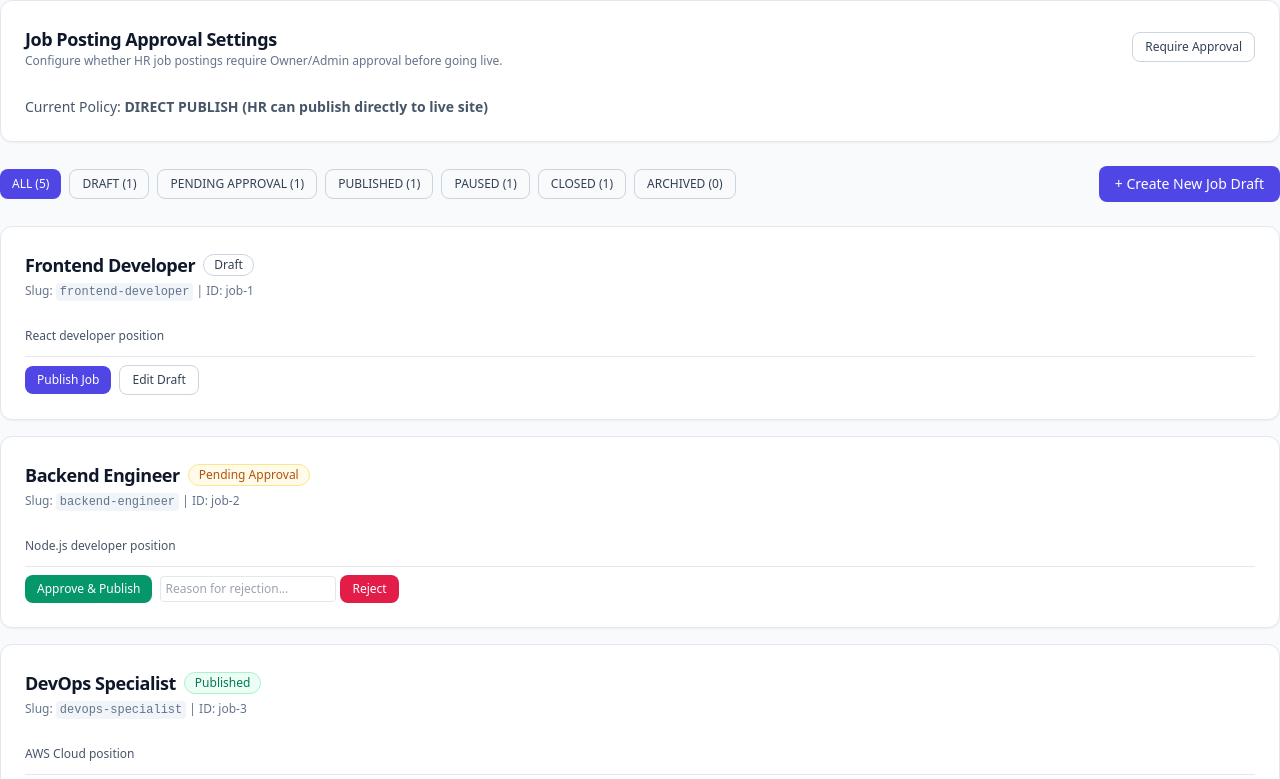
Test: JobPostingManager Component › 2. Owner/Admin can toggle job approval settings
This screenshot has width=1280, height=779.
Click the button with test id "toggle-approval-setting-btn" at (1194, 47), box x1=1132 y1=32 x2=1255 y2=62
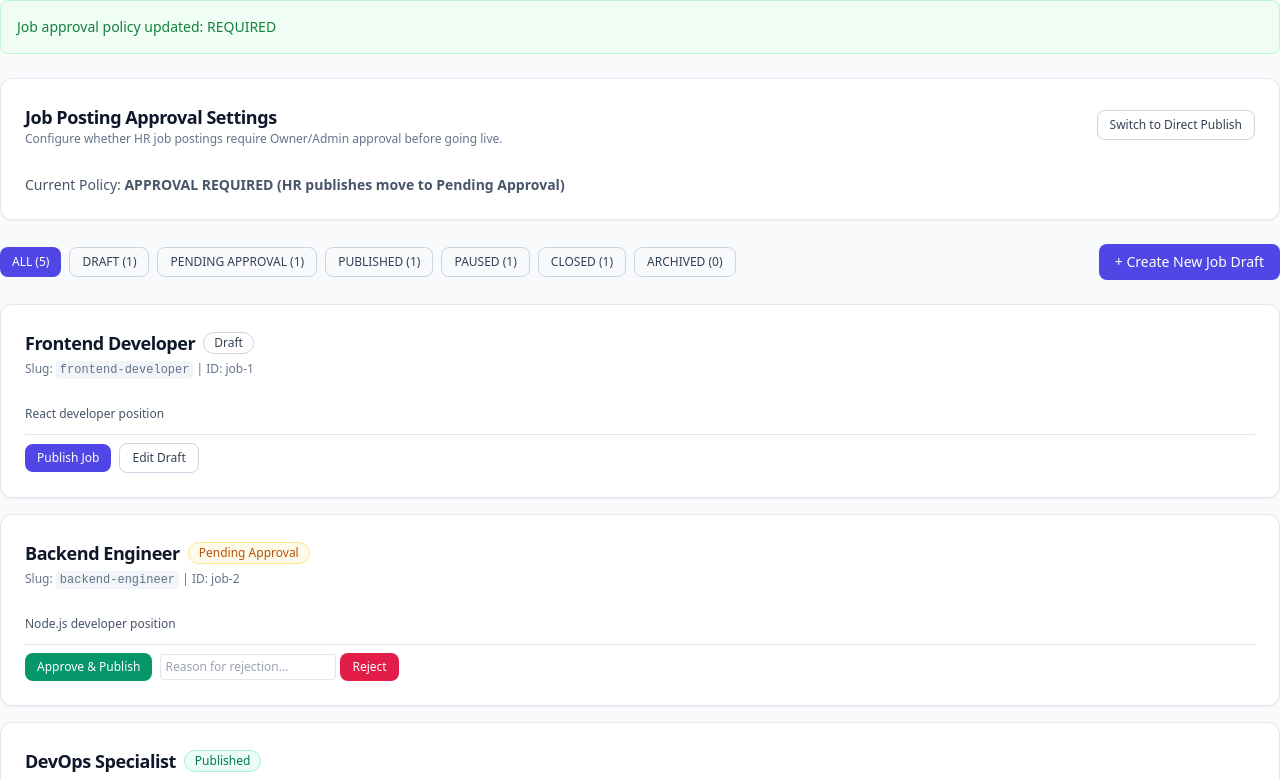
Result: the text with test id "job-manager-success" shows "Job approval policy updated" at x1=17 y1=17 x2=276 y2=36
